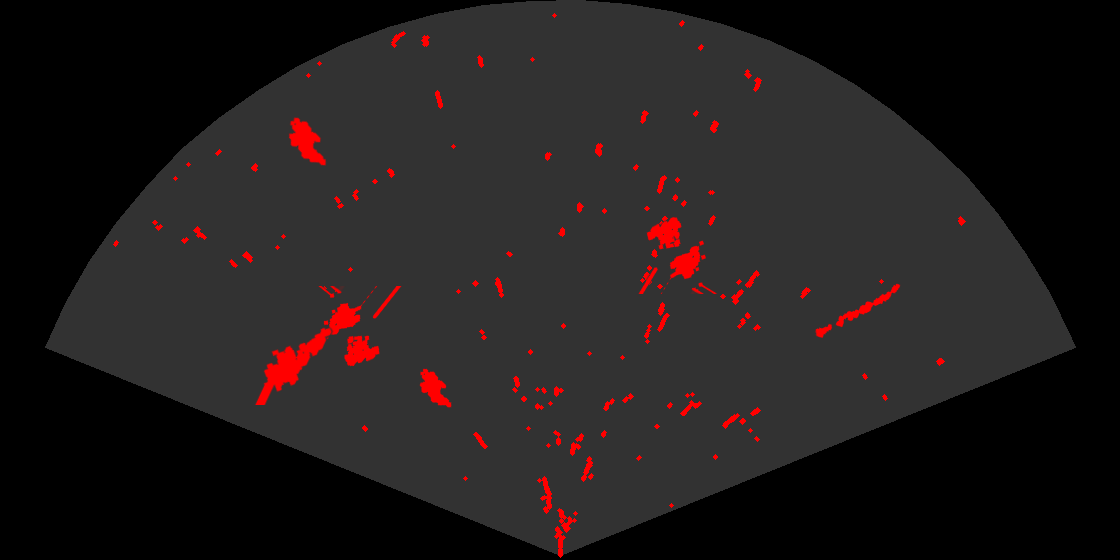AUV: (287, 116, 328, 167), (418, 367, 453, 409)
cage: (317, 286, 402, 368), (637, 215, 718, 294)
chain: (813, 282, 902, 339)
frogman: (253, 326, 334, 405)
